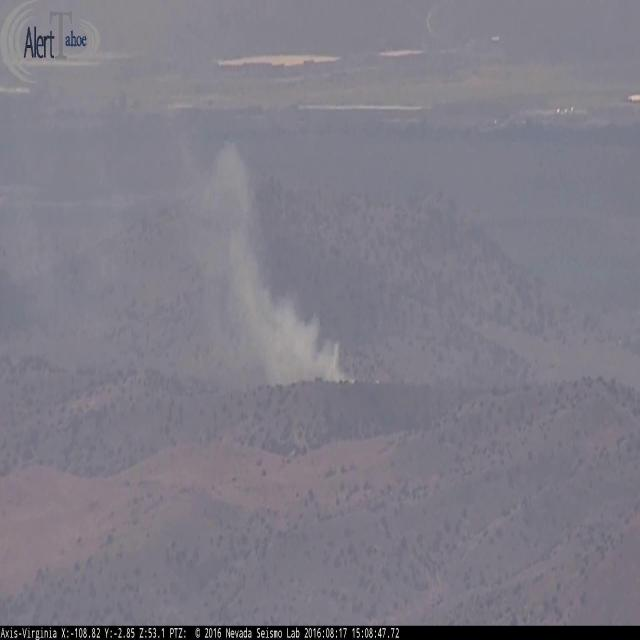smoke: (170, 130, 357, 384)
